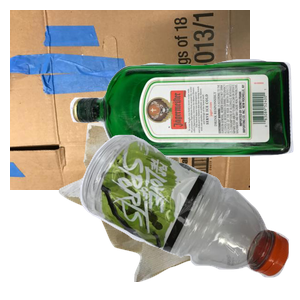cardboard: (10, 10, 250, 190)
glass: (67, 56, 300, 206)
plastic: (77, 132, 300, 300)
trash: (56, 120, 247, 300)
